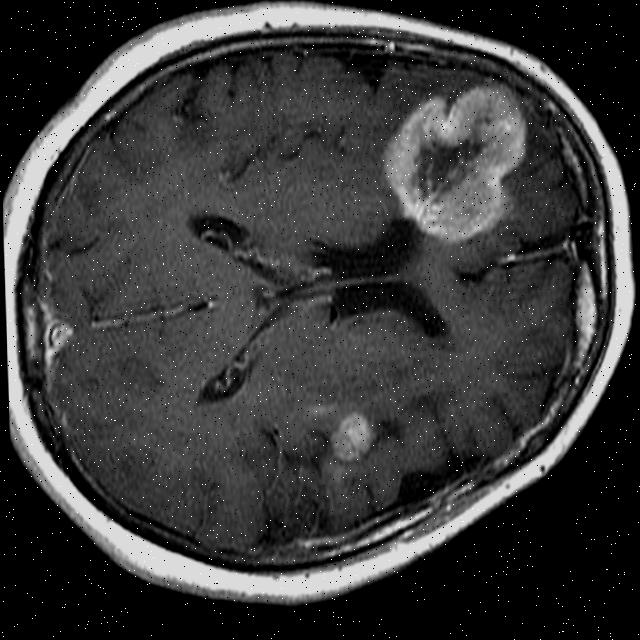Meningioma: (379, 79, 530, 252), (328, 410, 376, 464)
